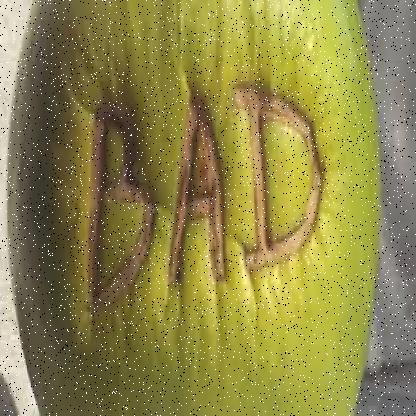damaged_apple: (14, 3, 378, 410)
